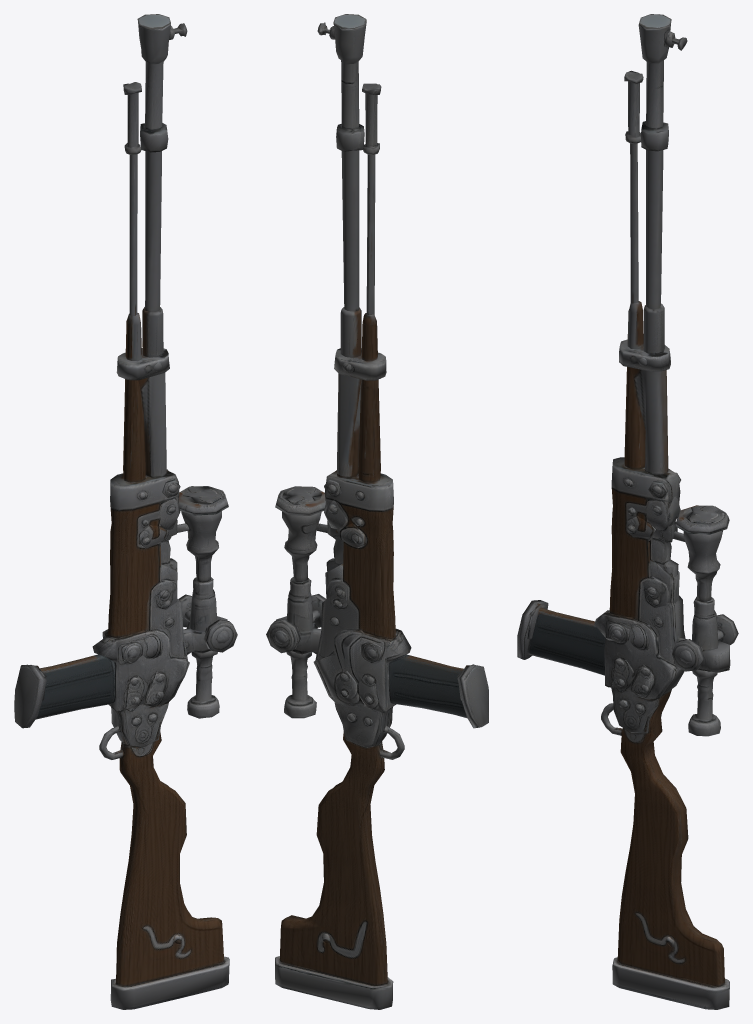
Rendered from vesk_rifle.glb.
3 views of the same model, side by side, from view 1: azimuth 30°, elevation 25°; view 2: azimuth 150°, elevation 25°; view 3: azimuth 330°, elevation 25° (orthographic).
Visible parts, largest first — view 1: mesh_node; view 2: mesh_node; view 3: mesh_node.
Part boxes in pixels (x1,y1,x2,y2): mesh_node: (14,14,237,1009); mesh_node: (266,14,488,1009); mesh_node: (517,14,738,1009).
Bounding box in the file's own units: 0.2261 × 1 × 0.0747.
1 material, 1 textured.
